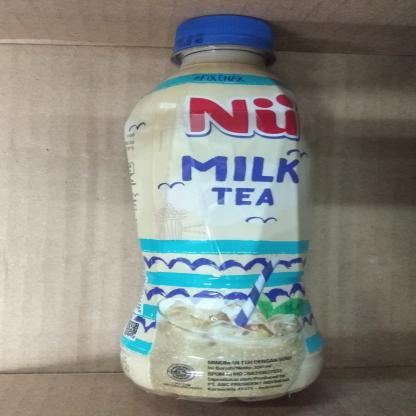bottle: (112, 8, 331, 408)
